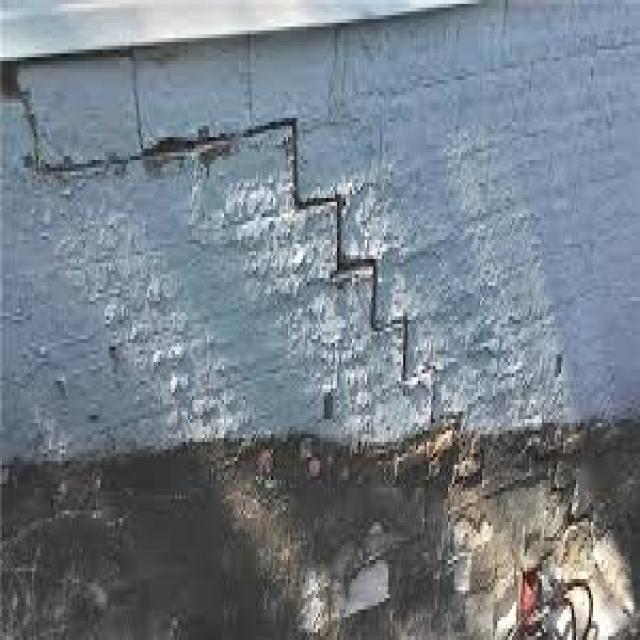Crack: (0, 53, 457, 423)
